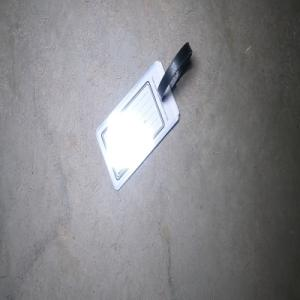LuggageTag: (94, 40, 193, 192)
